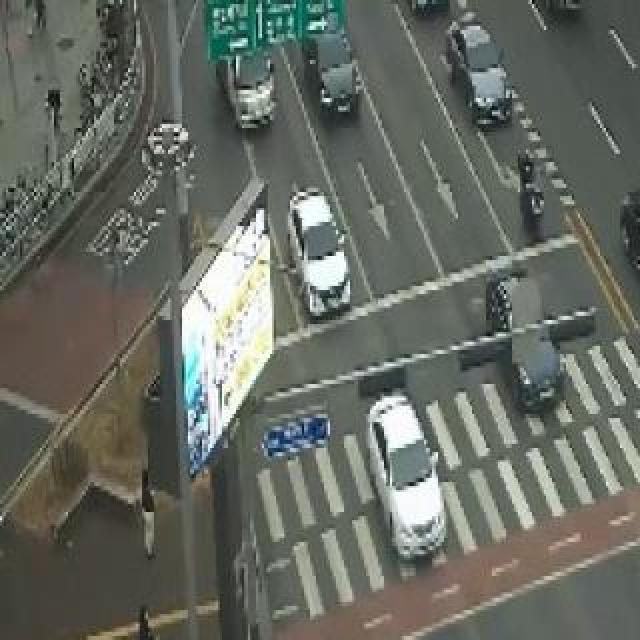motorbike: (511, 154, 551, 228), (122, 600, 190, 640)
truck: (217, 48, 281, 140)
